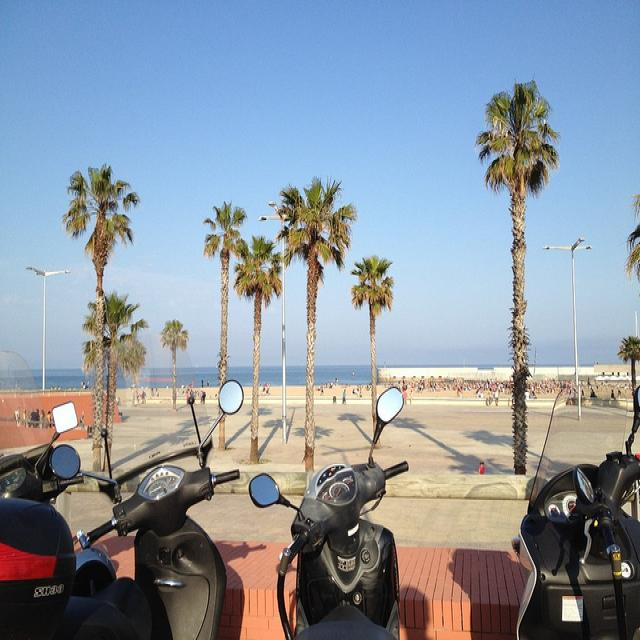motor: (0, 374, 251, 629), (246, 385, 409, 633), (510, 384, 640, 634)
